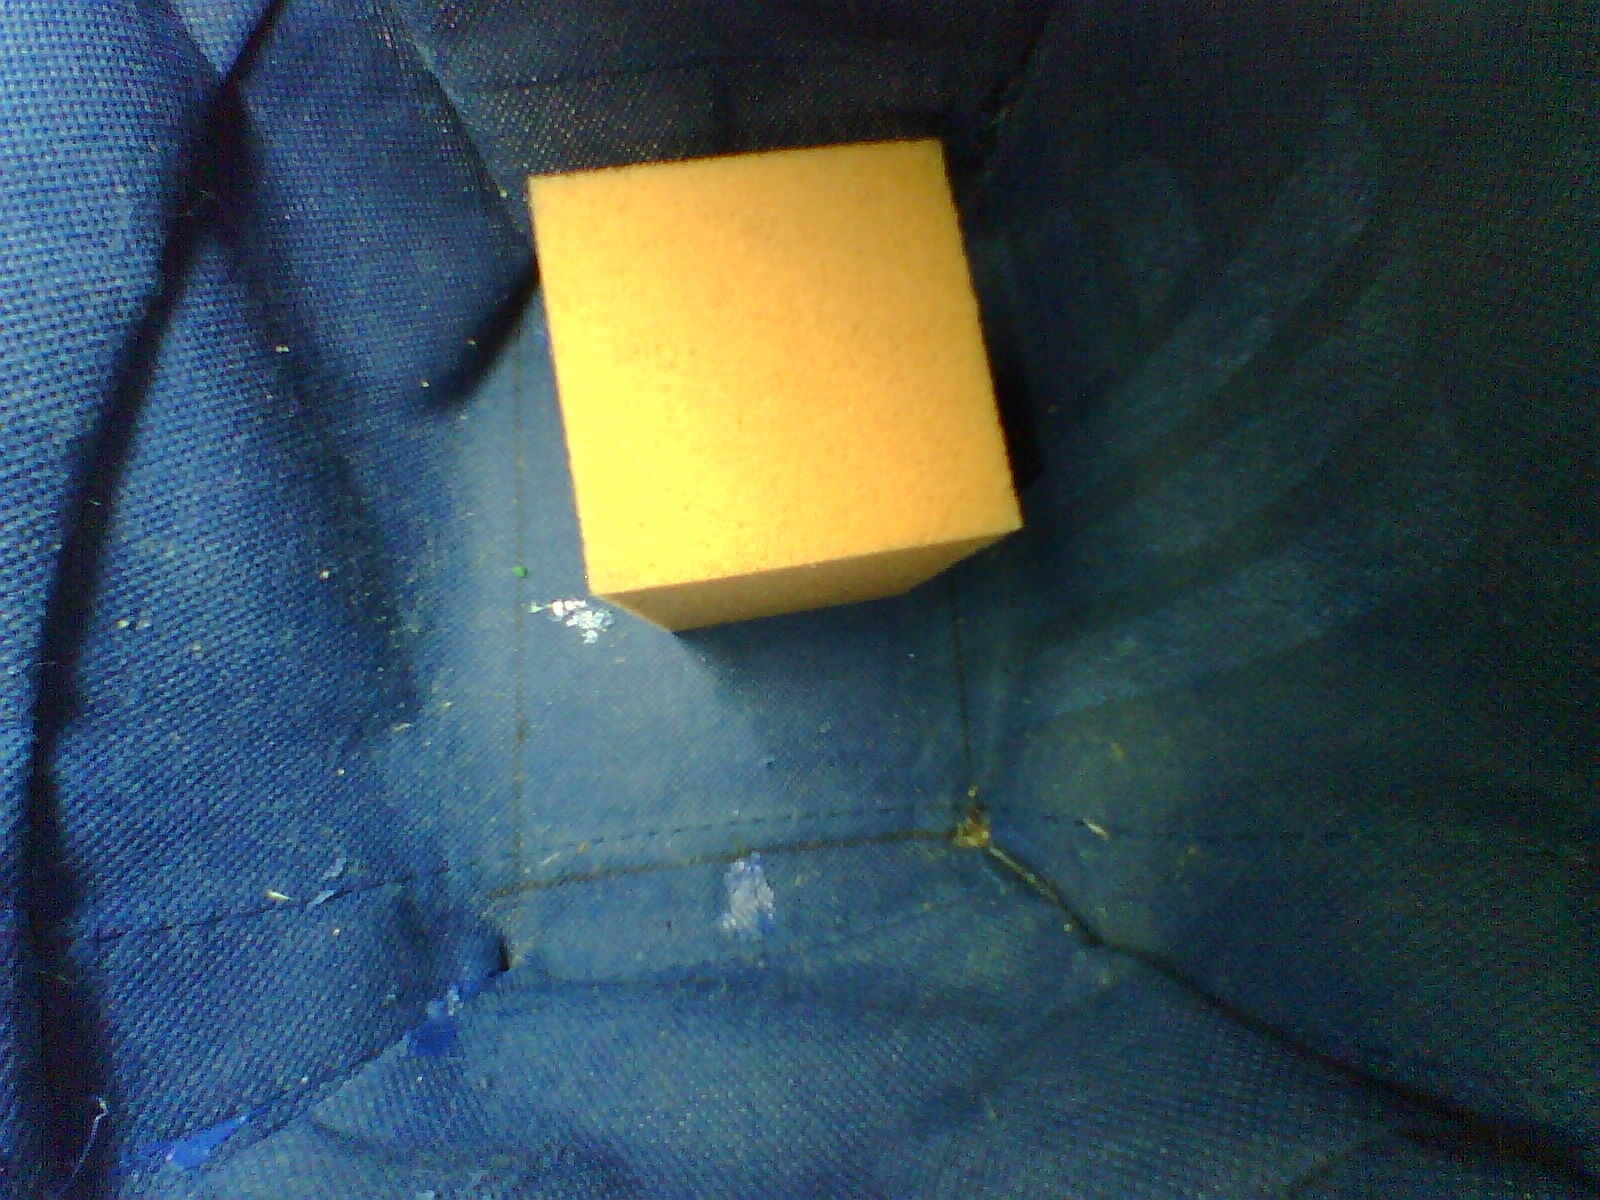cube-soft: (505, 116, 1036, 664)
